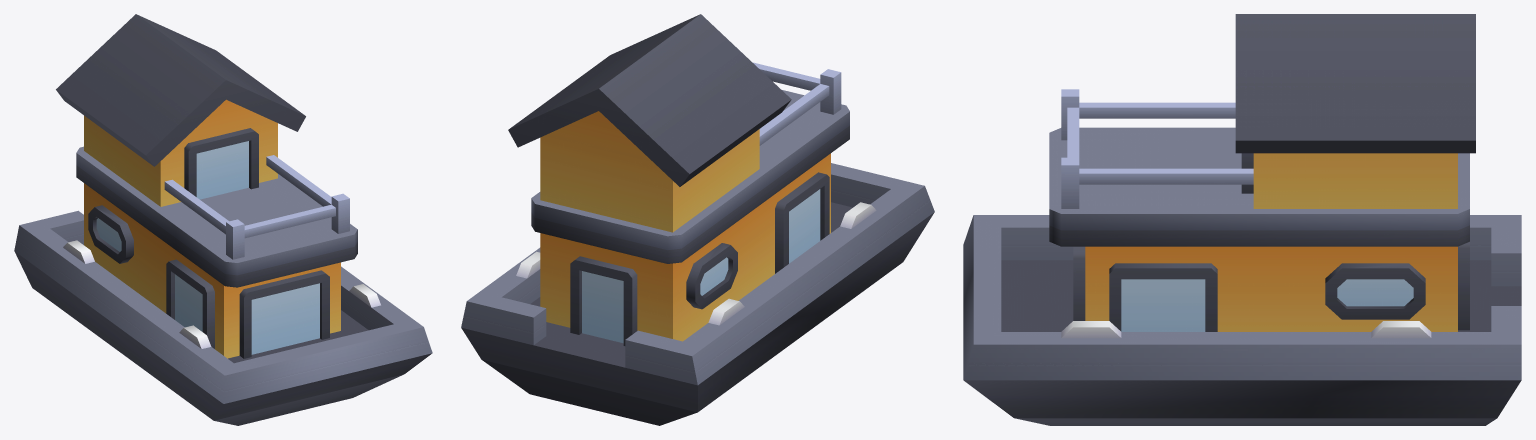
The model's file is boat-house-d-transformed-transformed.glb.
3 views of the same model, side by side, from view 1: azimuth 30°, elevation 25°; view 2: azimuth 150°, elevation 25°; view 3: azimuth 270°, elevation 25° (orthographic). The views are drawn at different scales.
Parts seen in each view (by area): view 1: boat-house-d; view 2: boat-house-d; view 3: boat-house-d.
Boxes of the visible parts, x1,y1,x2,y2 form: boat-house-d: (14,14,432,425); boat-house-d: (461,14,934,425); boat-house-d: (963,14,1521,425).
Bounding box in the file's own units: 2.68 × 3.44 × 4.64.
Materials: 1 (1 with a texture image).
